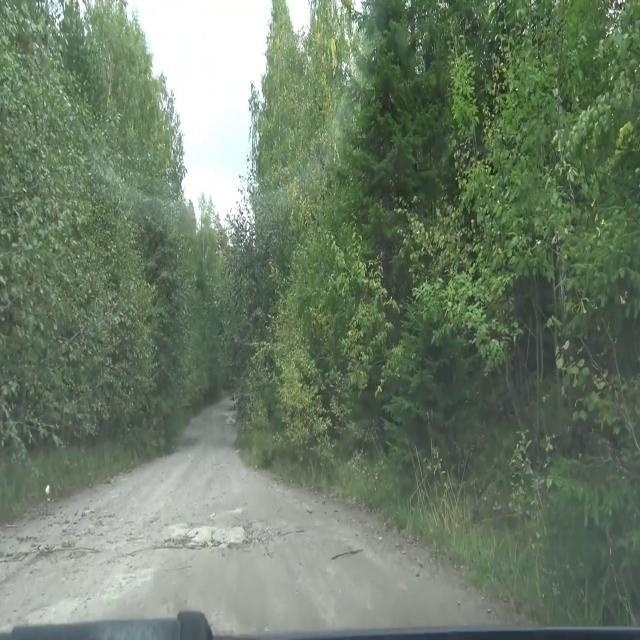pothole: (136, 508, 284, 559)
